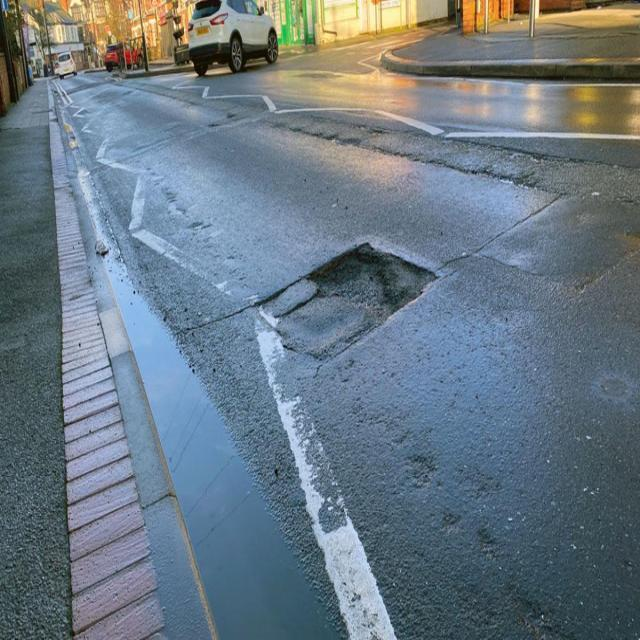Pothole: (306, 242, 432, 341)
